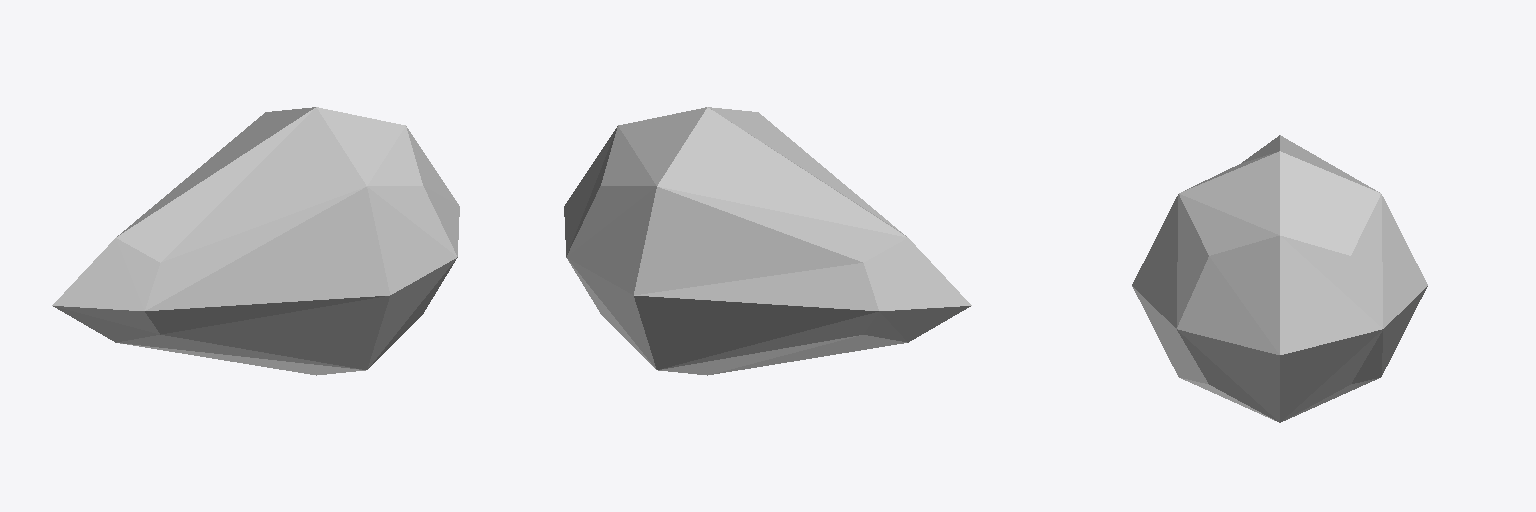
File: Projectile_I_0001.obj
The picture shows the model from 3 angles: view 1: azimuth 30°, elevation 25°; view 2: azimuth 150°, elevation 25°; view 3: azimuth 270°, elevation 25°; orthographic projection.
Parts seen in each view (by area): view 1: Ice; view 2: Ice; view 3: Ice.
Boxes of the visible parts, x1=… form: Ice: x1=52, y1=107, x2=459, y2=375; Ice: x1=564, y1=107, x2=971, y2=375; Ice: x1=1132, y1=135, x2=1427, y2=422.
Bounding box in the file's own units: 7.6 × 4.78 × 4.78.